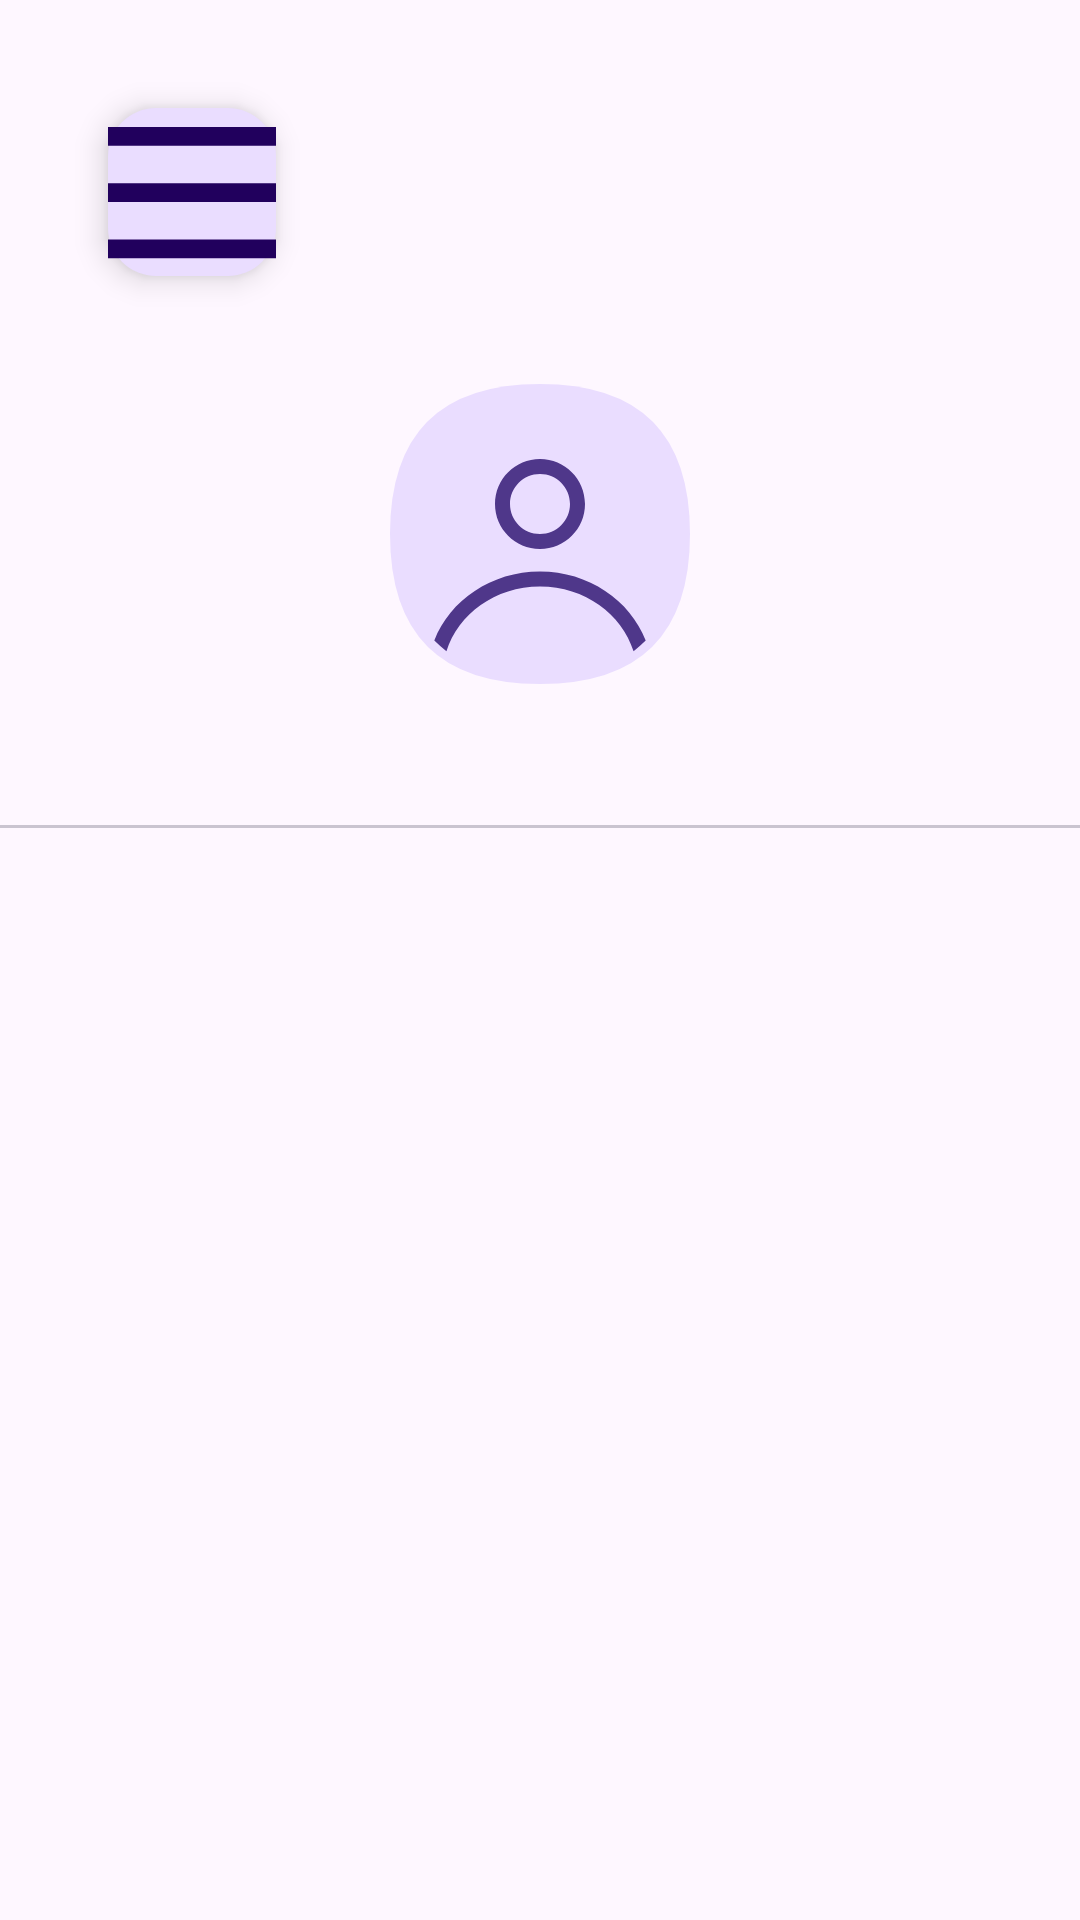

Icons on this 1080w x 1920h Android screen, each with the point to tap as [x,y]:
Menu Open: [192,192]
